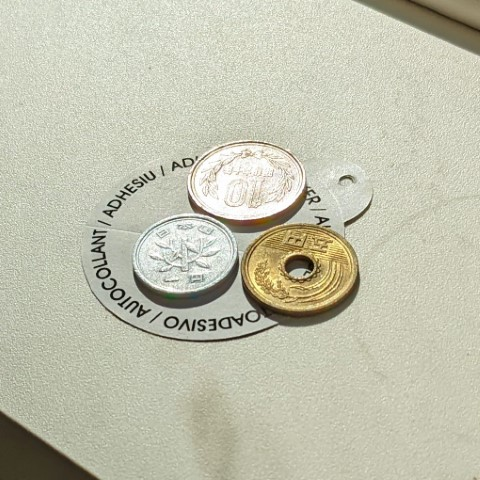10yen: (187, 140, 306, 225)
1yen: (132, 213, 237, 298)
5yen: (240, 223, 358, 316)
